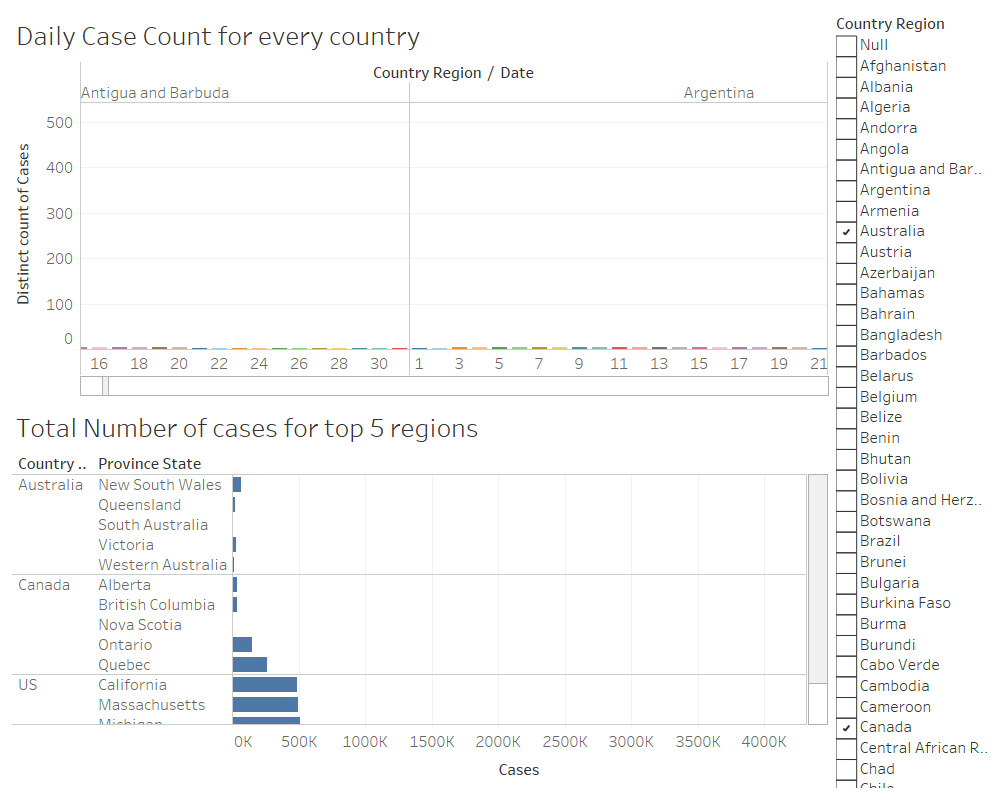

The dashboard page shown, as its layout file describes it:
{"tool":"tableau","page":{"name":"Dashboard/Covid-19 analysis 2","canvas":[1000,800],"ordinal":1},"visuals":[{"type":"worksheet","title":"Daily Case Count for every country","mark":"Bar","rows":["cases"],"cols":["country_region","date"],"box":[8,8,824,392]},{"type":"filter","title":"Total Number of cases for top 5 regions","param":"[federated.0fkiguc1lclf2s1365o251hr6edx (copy)].[none:country_region:nk]","box":[832,8,160,784]},{"type":"worksheet","title":"Total Number of cases for top 5 regions","mark":"Automatic","rows":["country_region","province_state"],"cols":["cases"],"box":[8,400,824,392]}]}

Visuals, with their boxes in screenshot pixels (x1, y1, x2, y2), scaled from the page's 1000x800 canvas onto the 1000x800 screenshot:
"Daily Case Count for every country" worksheet (Bar marks): x1=8 y1=8 x2=832 y2=400
"Total Number of cases for top 5 regions" filter: x1=832 y1=8 x2=992 y2=792
"Total Number of cases for top 5 regions" worksheet: x1=8 y1=400 x2=832 y2=792
